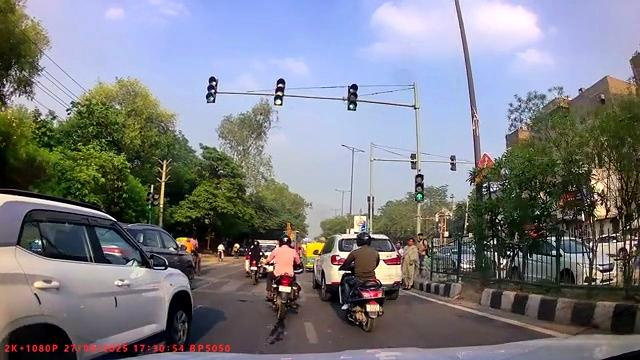motorcycle_with_helmet: (338, 231, 385, 332), (266, 234, 302, 322)
